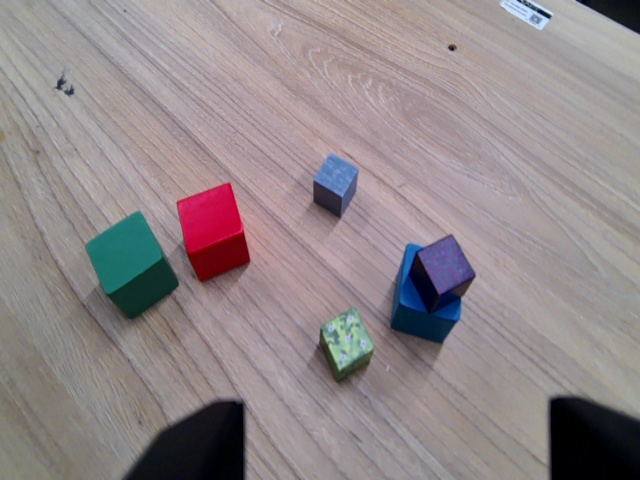brick: (407, 229, 477, 316)
grass: (315, 305, 378, 384)
stone: (308, 150, 363, 221)
